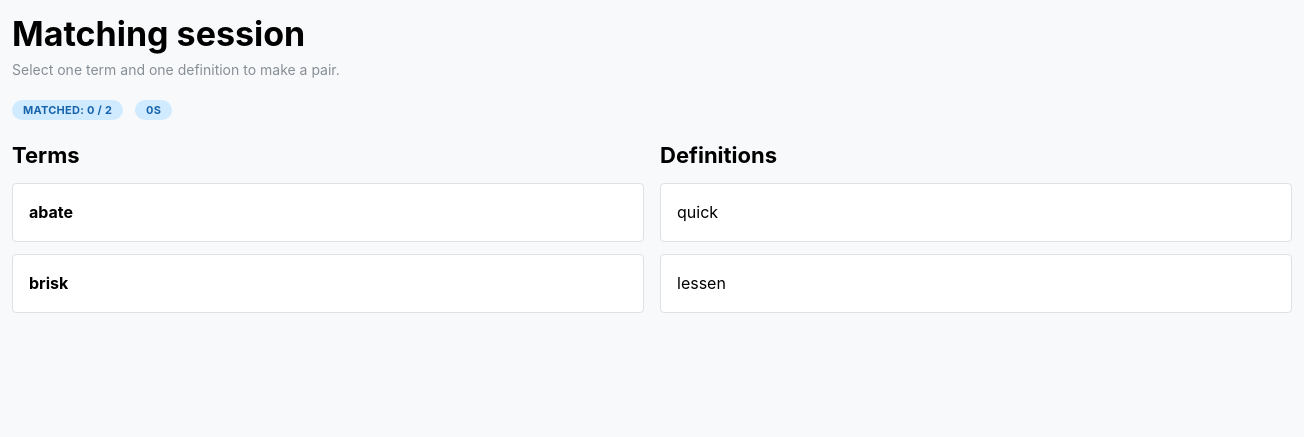
it: matching mode › shows a mismatch without posting an answer
Expected: the text "abate" is shown, [29,200,73,225]
Step 1. Click the button with aria-label "Term: abate" → (51, 212), box [12,183,644,242]
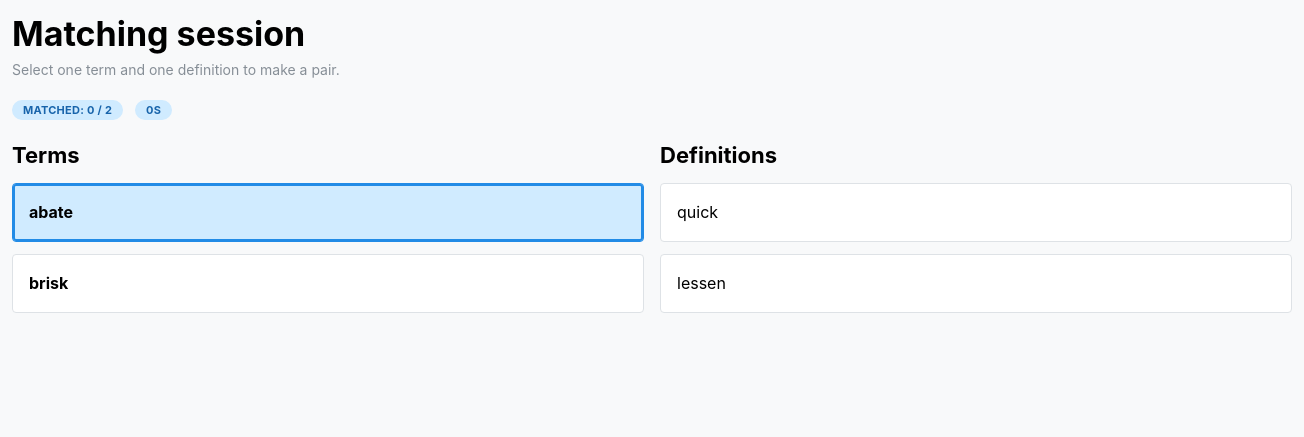
Step 2. Click the button with aria-label "Definition: quick" → (698, 212), box [660,183,1292,242]
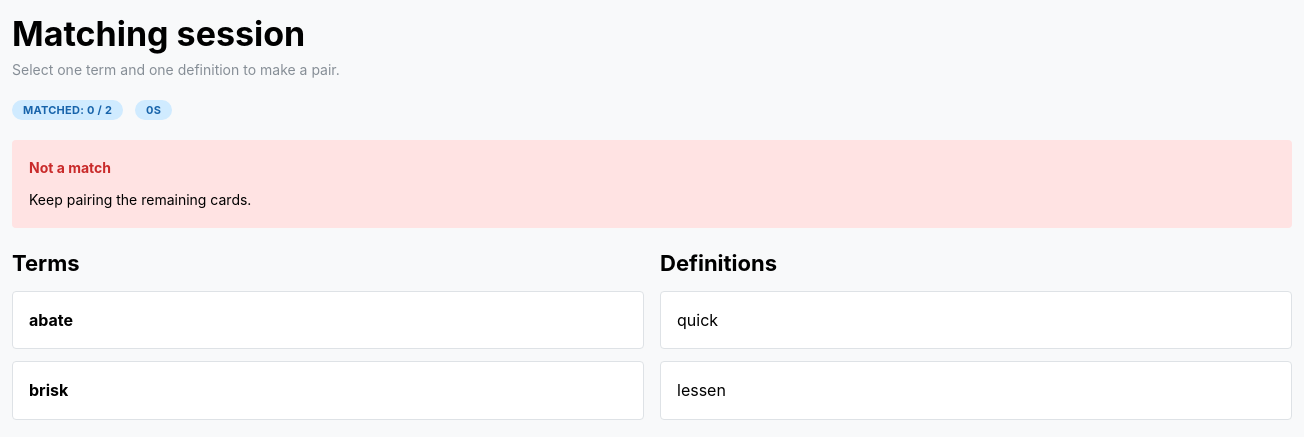
Expected: the text "Not a match" is shown, [29,158,111,179]
